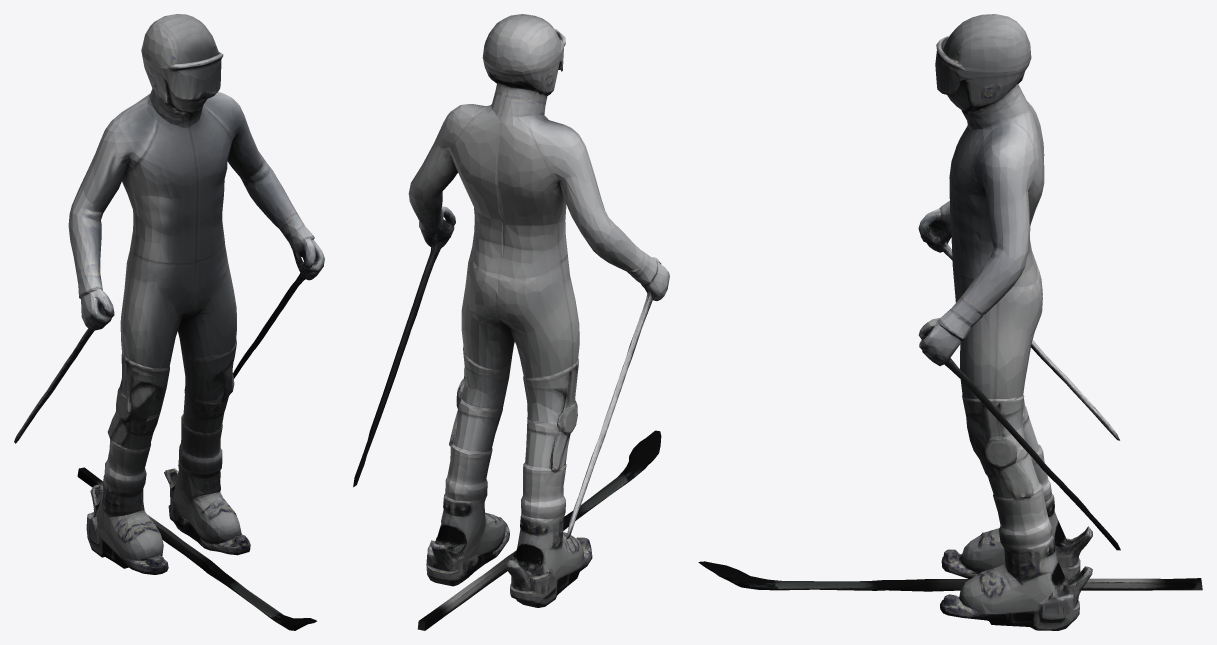
File: mannequin.glb
3 views of the same model, side by side, from view 1: azimuth 30°, elevation 25°; view 2: azimuth 150°, elevation 25°; view 3: azimuth 270°, elevation 25° (orthographic). The views are drawn at different scales.
Visible parts, largest first — view 1: world; view 2: world; view 3: world.
Boxes of the visible parts, x1=… form: world: x1=14, y1=14, x2=324, y2=630; world: x1=353, y1=14, x2=669, y2=630; world: x1=698, y1=14, x2=1202, y2=630.
Bounding box in the file's own units: 0.4579 × 0.9995 × 0.7838.
1 material, 1 textured.
